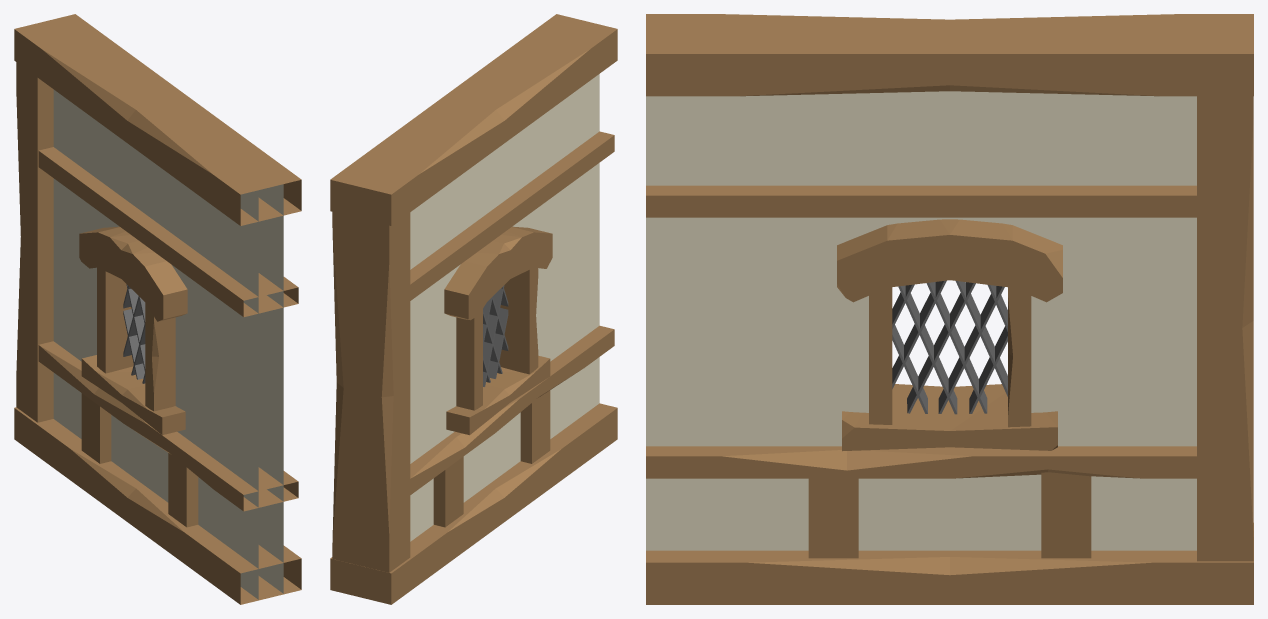
Rendered from SFV_Window2_Wooden_M_006.fbx.
3 renders of one model, left to right at view 1: azimuth 30°, elevation 25°; view 2: azimuth 150°, elevation 25°; view 3: azimuth 270°, elevation 25°, orthographic. The views are drawn at different scales.
Parts seen in each view (by area): view 1: SFV_Window2_Wooden_M_006; view 2: SFV_Window2_Wooden_M_006; view 3: SFV_Window2_Wooden_M_006.
Boxes of the visible parts, box(x1,y1,x2,y2) form: SFV_Window2_Wooden_M_006: box(14, 14, 301, 604); SFV_Window2_Wooden_M_006: box(330, 14, 617, 604); SFV_Window2_Wooden_M_006: box(646, 14, 1253, 604).
Bounding box in the file's own units: 56.2 × 300 × 300.
